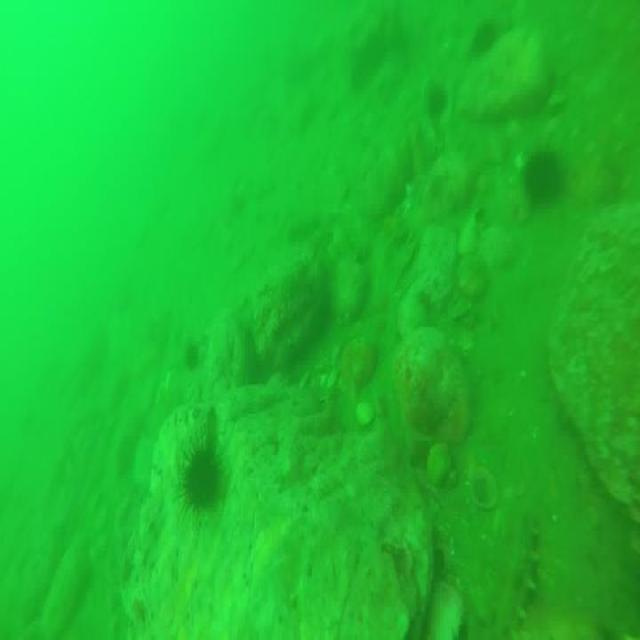echinus: (173, 444, 220, 523), (515, 146, 565, 206), (470, 18, 494, 56), (426, 92, 448, 115), (183, 338, 197, 362)
holothurian: (494, 513, 540, 640)
scallop: (465, 465, 499, 515)
